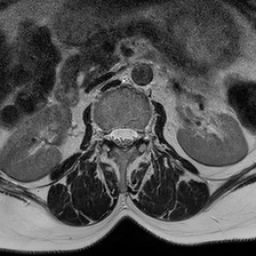CCS_normal: (118, 117, 128, 156)
LFS_normal: (137, 120, 146, 149)
LLS_normal: (128, 117, 137, 152)
RFS_normal: (99, 120, 109, 146)
RLS_normal: (109, 118, 118, 153)
